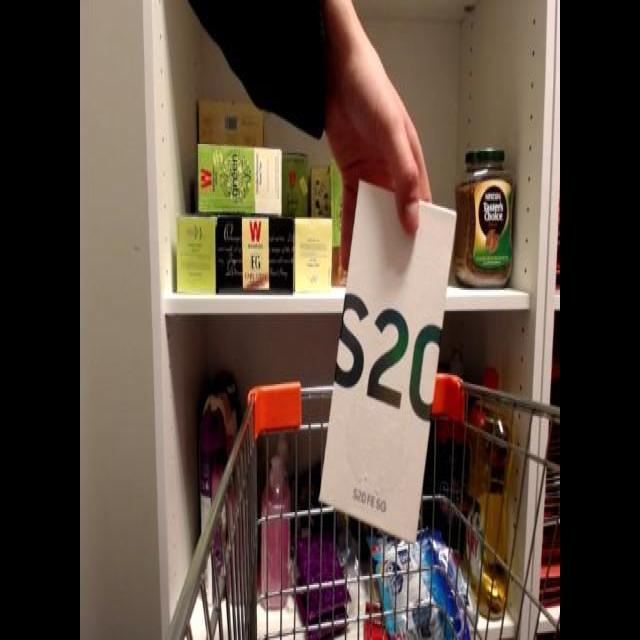Samsung S20: (317, 178, 463, 548)
